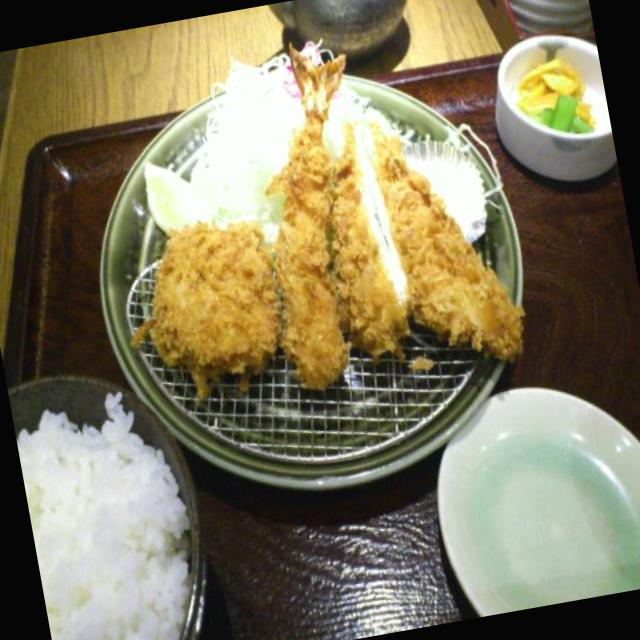Rice: (9, 374, 212, 640)
